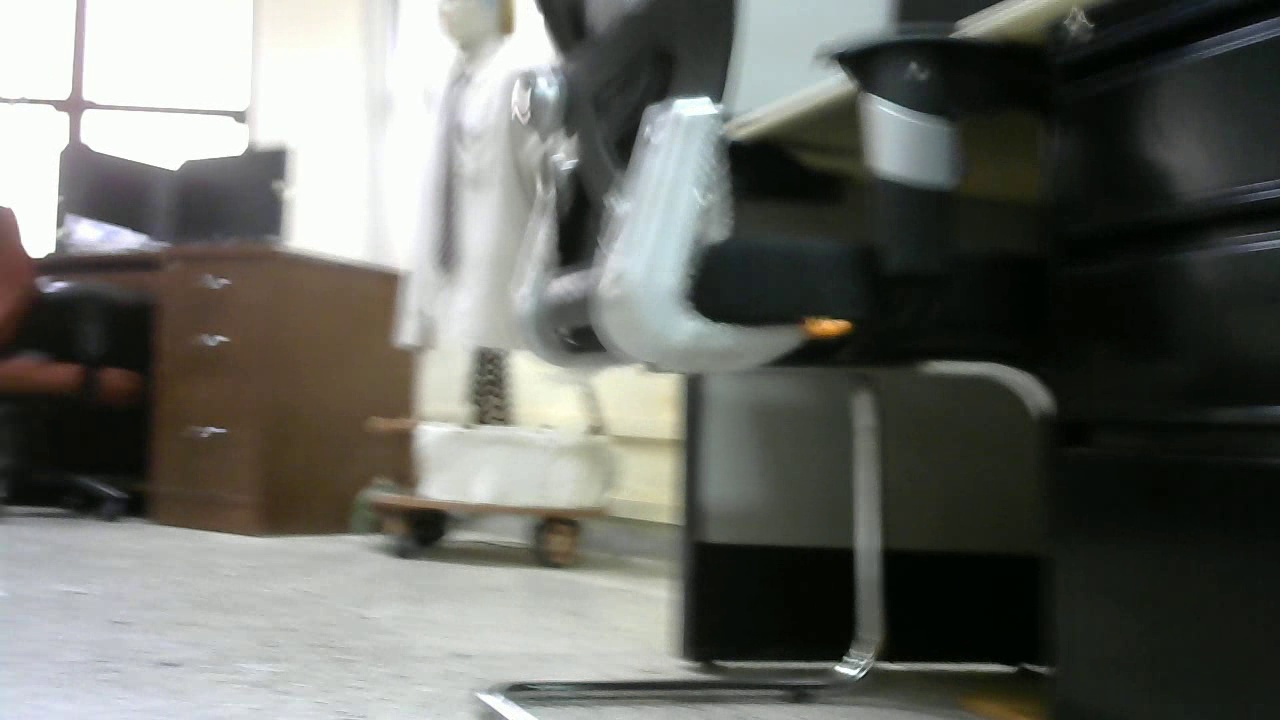chair: (476, 3, 1029, 720), (1, 208, 158, 525)
